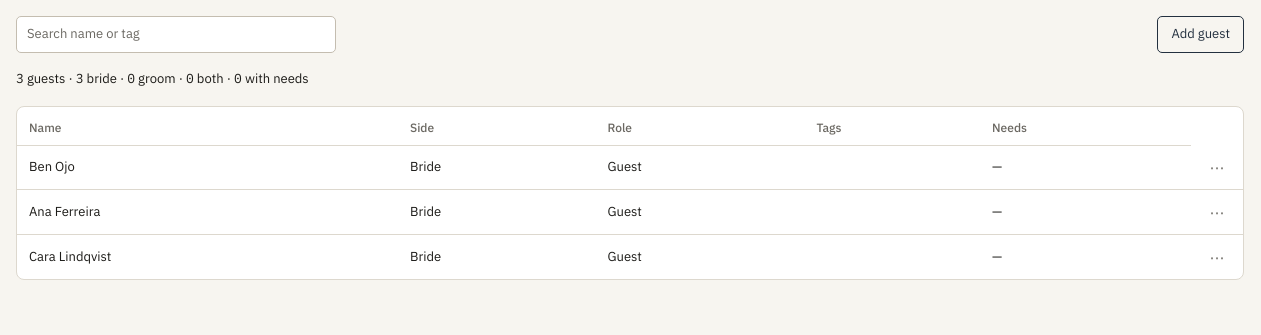
Test: deleting a guest leaves nothing dangling (C13) › clears the ex-partner's partnerOf and drops the id from every conflictsWith, with the remaining rows still rendering cleanly
Click the button named "Actions for Ana Ferreira": (1217, 212) [1203,198,1231,226]
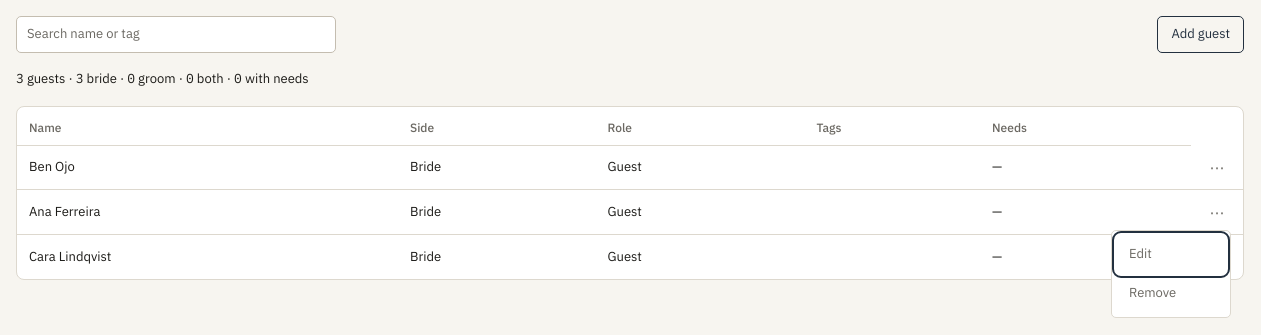
Click the menu item "Remove": (1171, 293) [1116,274,1226,313]
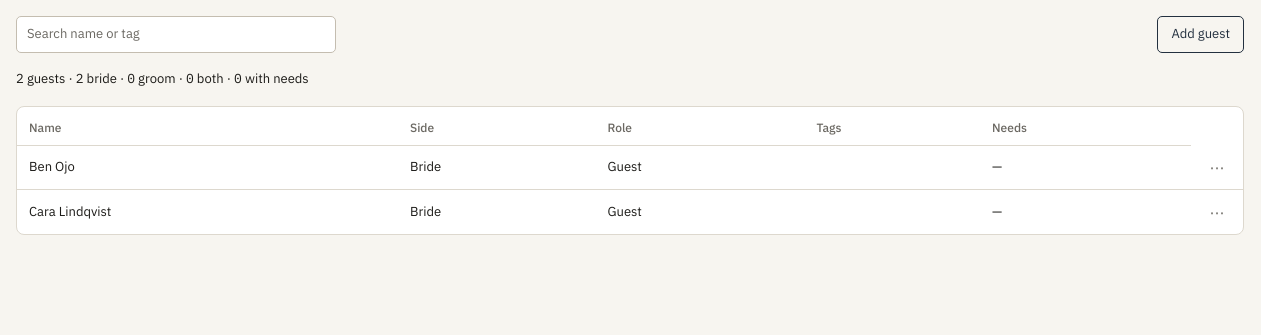
Expected: the text "Ben Ojo" is shown, [17,145,398,190]
Expected: the text "Ana Ferreira" is gone
